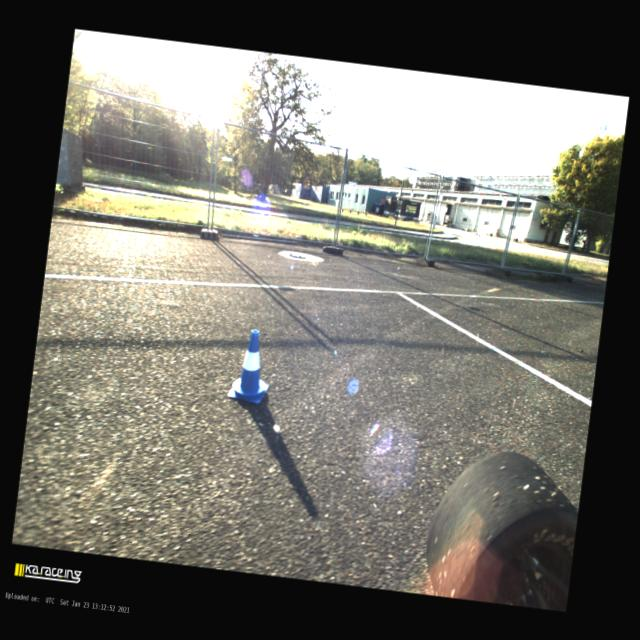blue_cone: (225, 326, 276, 406)
